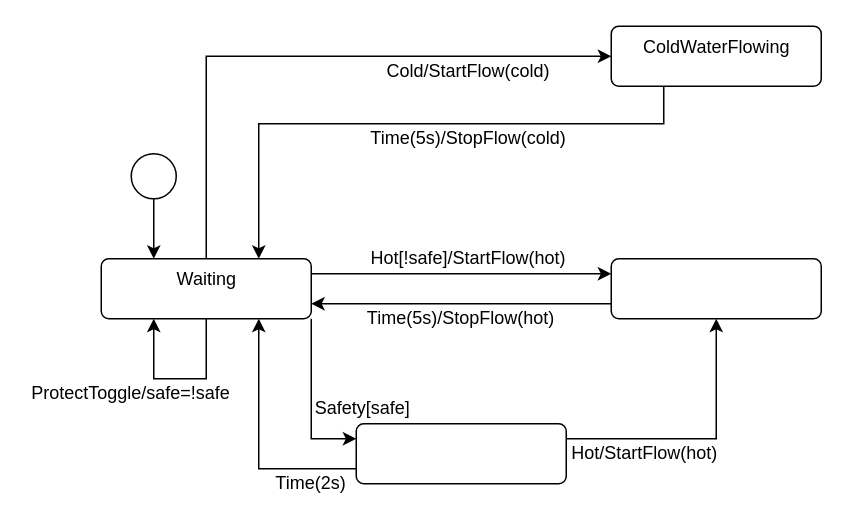
Some shapes in this 848 by 525 pixel diagram are drawn without their labels. The box of each missing label's shape, as (x1, y1, x2, y2) in pixels:
HotWaterFlowing: (610, 257, 821, 319)
SafetyWaiting: (355, 422, 566, 484)
